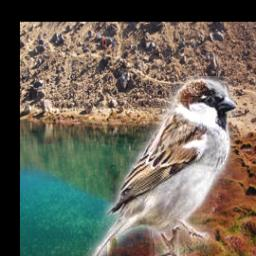Sparrow: (82, 77, 236, 256)
